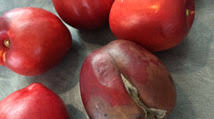apple: (109, 3, 188, 45), (4, 82, 66, 117)
damaged_apple: (81, 39, 175, 116), (2, 9, 71, 76)
